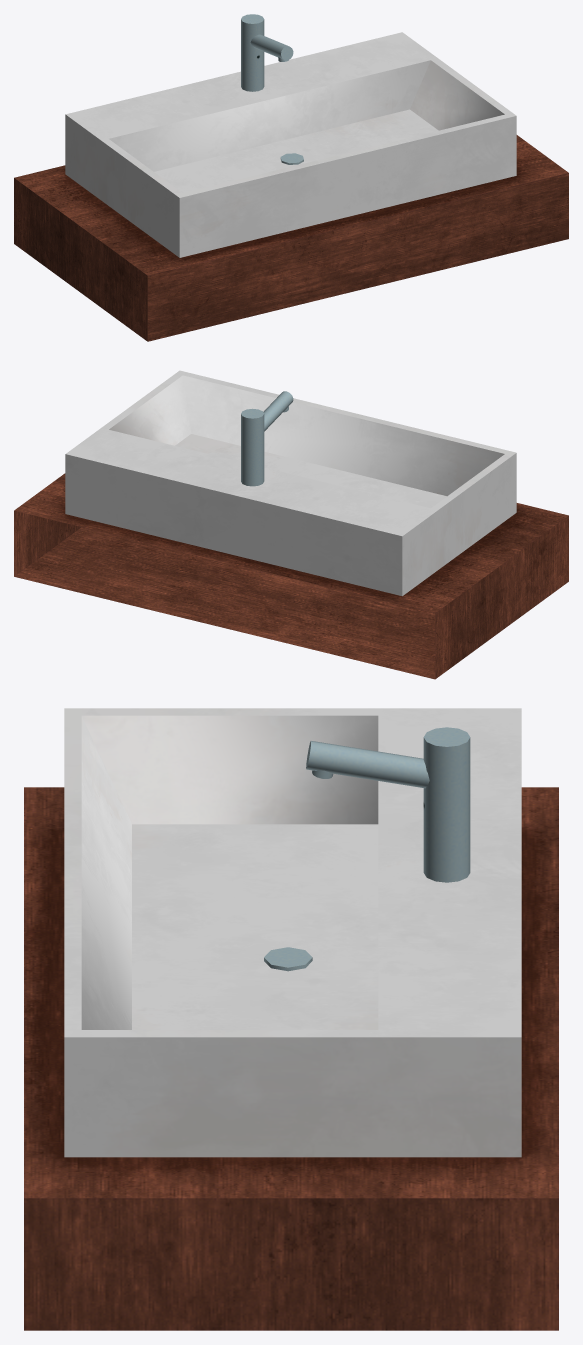
The model's file is Washbasin.FBX.
The picture shows the model from 3 angles, top to bottom: view 1: azimuth 30°, elevation 25°; view 2: azimuth 150°, elevation 25°; view 3: azimuth 270°, elevation 25°; orthographic projection. The views are drawn at different scales.
Visible parts, largest first — view 1: Washbasin; view 2: Washbasin; view 3: Washbasin.
Boxes of the visible parts, <box> form: Washbasin: <box>14,14,568,341</box>; Washbasin: <box>14,370,568,679</box>; Washbasin: <box>24,708,558,1330</box>.
Size of the model in its own units: 100 by 43.99 by 55.
